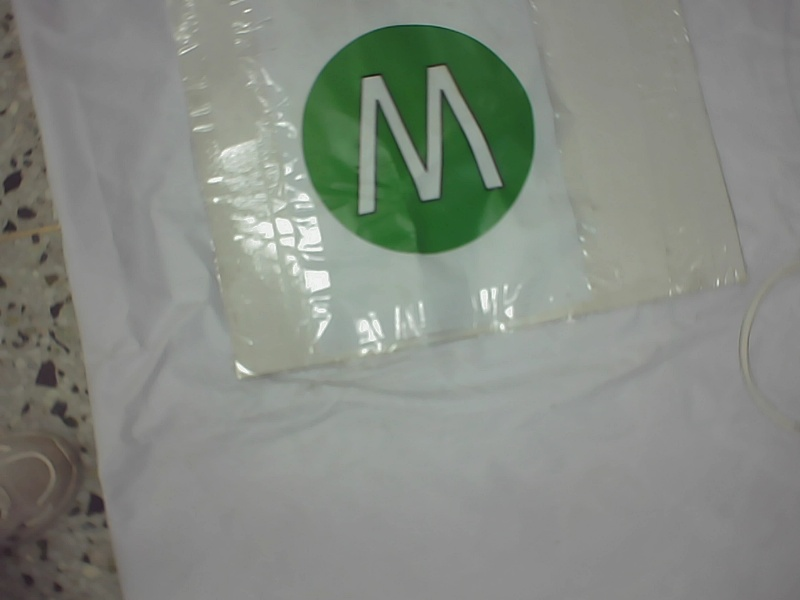areaB: (294, 18, 540, 262)
